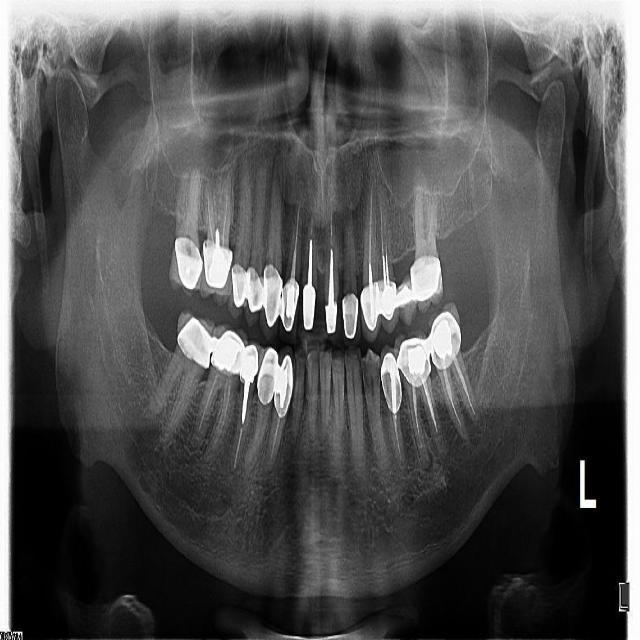71: (300, 238, 320, 330), (233, 354, 258, 427), (323, 248, 342, 333), (390, 360, 397, 415), (369, 263, 375, 324), (385, 251, 391, 282), (382, 255, 387, 288), (215, 224, 221, 247)
74: (448, 346, 477, 415), (438, 355, 460, 426), (420, 370, 439, 434), (410, 372, 422, 443), (290, 203, 301, 277), (368, 182, 376, 265), (205, 190, 216, 249), (271, 410, 282, 459), (392, 410, 402, 461), (233, 427, 244, 468), (221, 192, 229, 245), (378, 203, 384, 254)
NucleOSS Implant: (210, 331, 246, 373), (429, 319, 456, 360), (405, 346, 428, 376), (276, 367, 290, 408)
Zimmer Implant: (164, 308, 225, 369), (194, 239, 238, 306), (391, 329, 437, 387), (205, 324, 252, 378), (166, 235, 205, 295), (426, 303, 462, 367), (408, 254, 446, 314), (377, 343, 408, 415), (257, 264, 285, 343), (273, 347, 297, 416), (241, 265, 267, 326), (226, 258, 251, 318), (278, 276, 299, 343), (393, 272, 419, 326), (361, 284, 381, 342), (239, 340, 264, 386), (258, 348, 277, 405), (341, 290, 360, 346), (379, 281, 398, 335)
